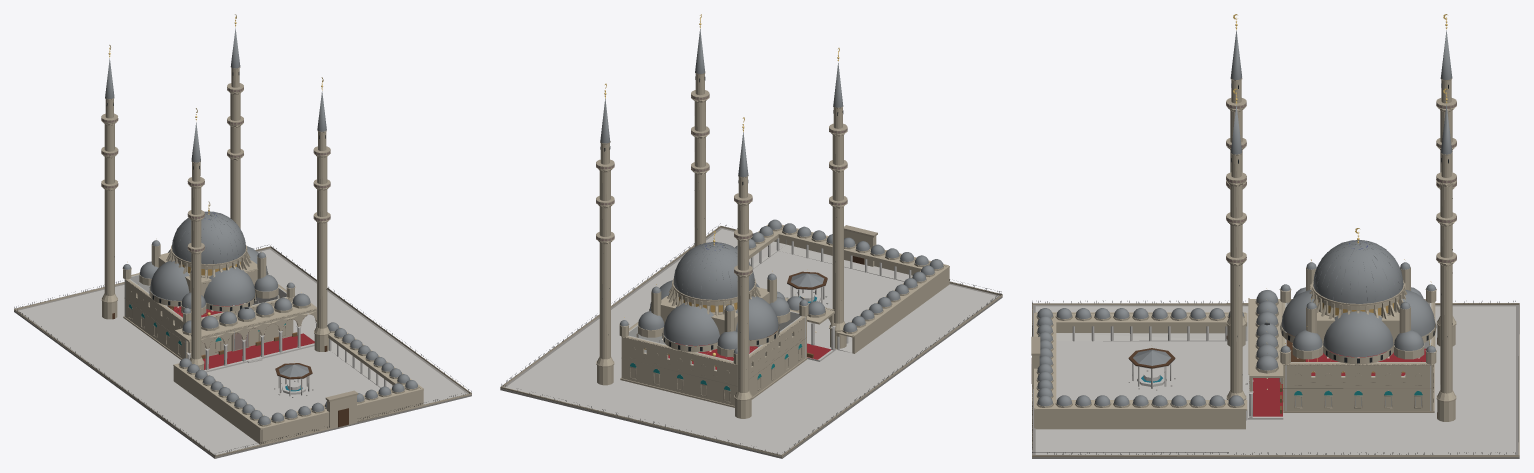
Rendered from simge_kocatepe_camii.glb.
The picture shows the model from 3 angles, left to right: view 1: azimuth 30°, elevation 25°; view 2: azimuth 150°, elevation 25°; view 3: azimuth 270°, elevation 25°; orthographic projection. The views are drawn at different scales.
Parts seen in each view (by area): view 1: Simge_Kocatepe_Camii.001; view 2: Simge_Kocatepe_Camii.001; view 3: Simge_Kocatepe_Camii.001.
Boxes of the visible parts, x1=… form: Simge_Kocatepe_Camii.001: x1=14, y1=14, x2=471, y2=458; Simge_Kocatepe_Camii.001: x1=500, y1=14, x2=1002, y2=458; Simge_Kocatepe_Camii.001: x1=1031, y1=14, x2=1519, y2=458.
Size of the model in its own units: 96 by 99.03 by 130.
